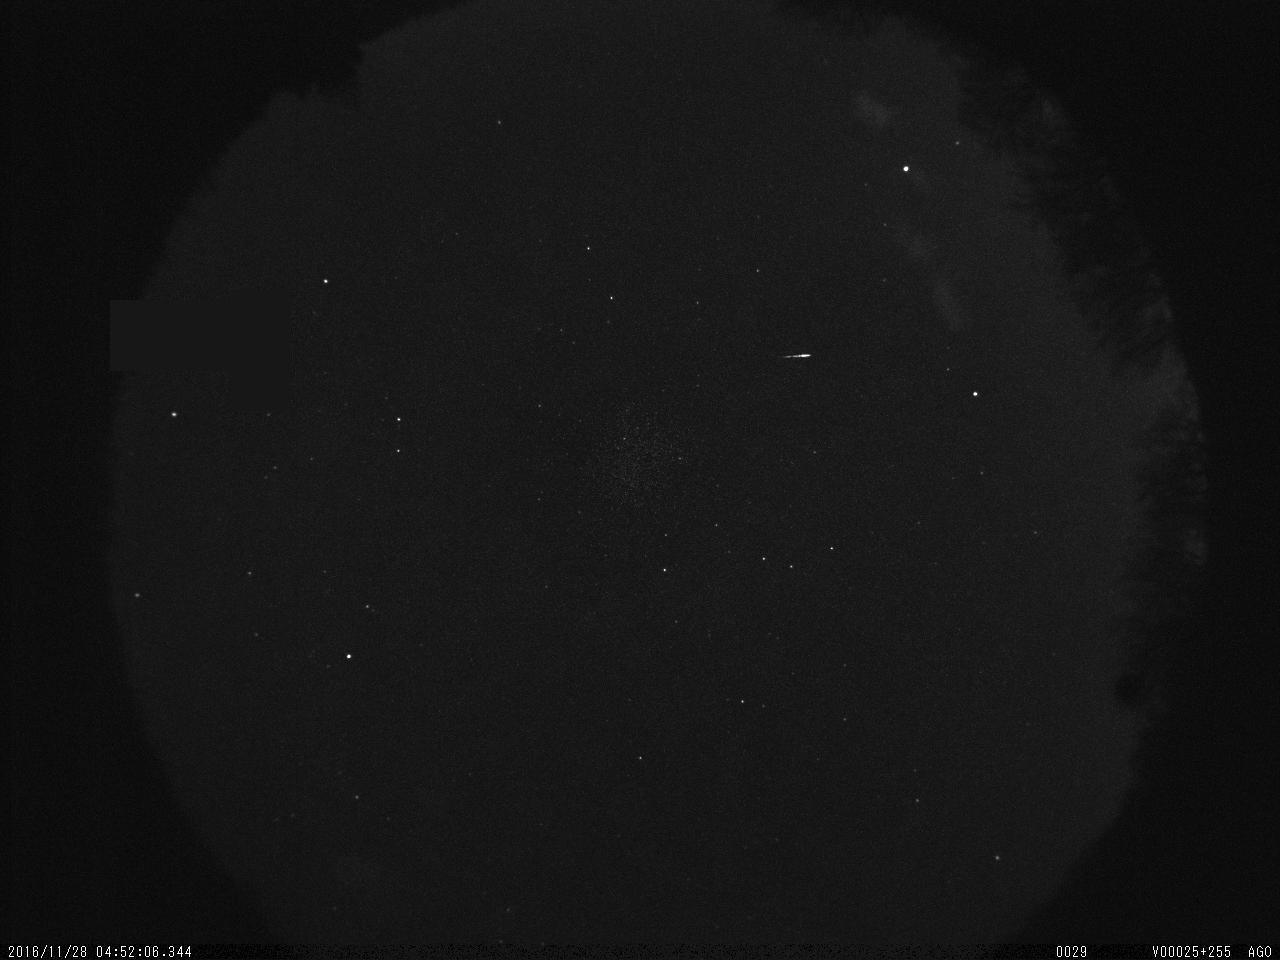meteor: (774, 342, 826, 373)
